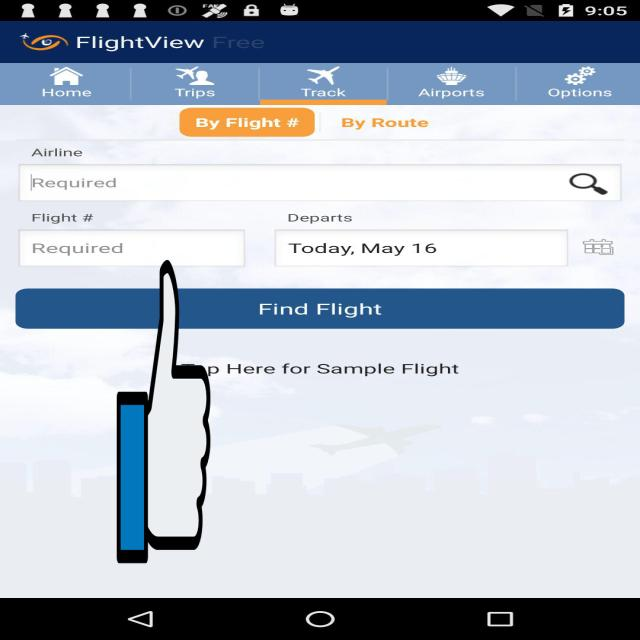privacy zuckering: (117, 253, 210, 570)
